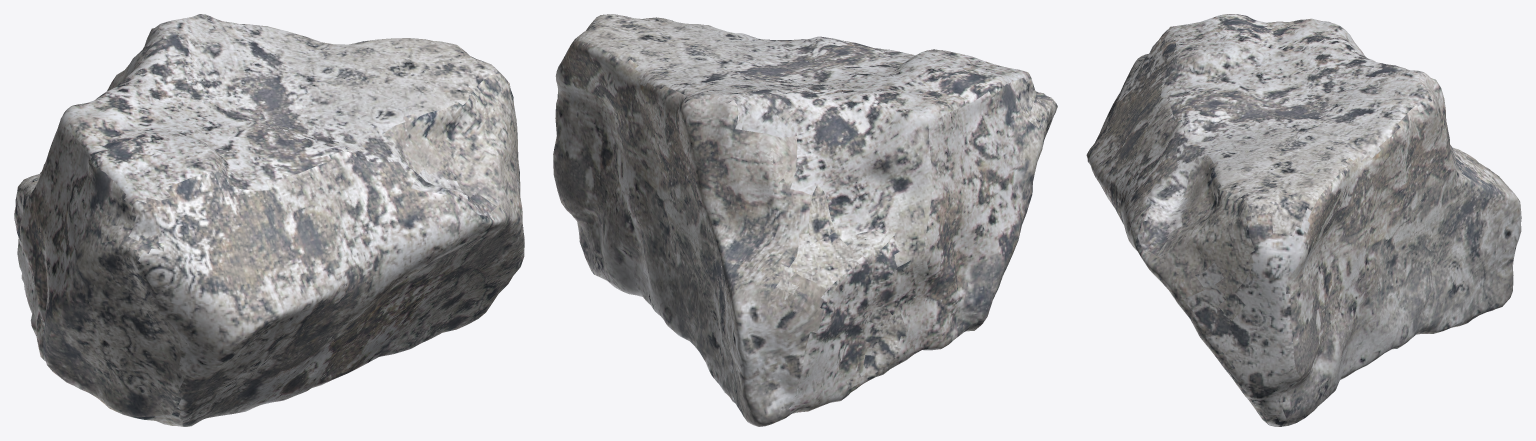
Rendered from SM_Small_Rock_D.fbx.
The picture shows the model from 3 angles, left to right: view 1: azimuth 30°, elevation 25°; view 2: azimuth 150°, elevation 25°; view 3: azimuth 270°, elevation 25°; orthographic projection. The views are drawn at different scales.
Parts seen in each view (by area): view 1: SM_Small_Rock_D_LOD0; view 2: SM_Small_Rock_D_LOD0; view 3: SM_Small_Rock_D_LOD0.
Part boxes in pixels (box(x1,y1,x2,y2)): SM_Small_Rock_D_LOD0: box(14, 14, 524, 426); SM_Small_Rock_D_LOD0: box(553, 14, 1057, 426); SM_Small_Rock_D_LOD0: box(1086, 14, 1521, 426).
Bounding box in the file's own units: 142 × 128 × 85.84.
Materials: 1 (1 with a texture image).
